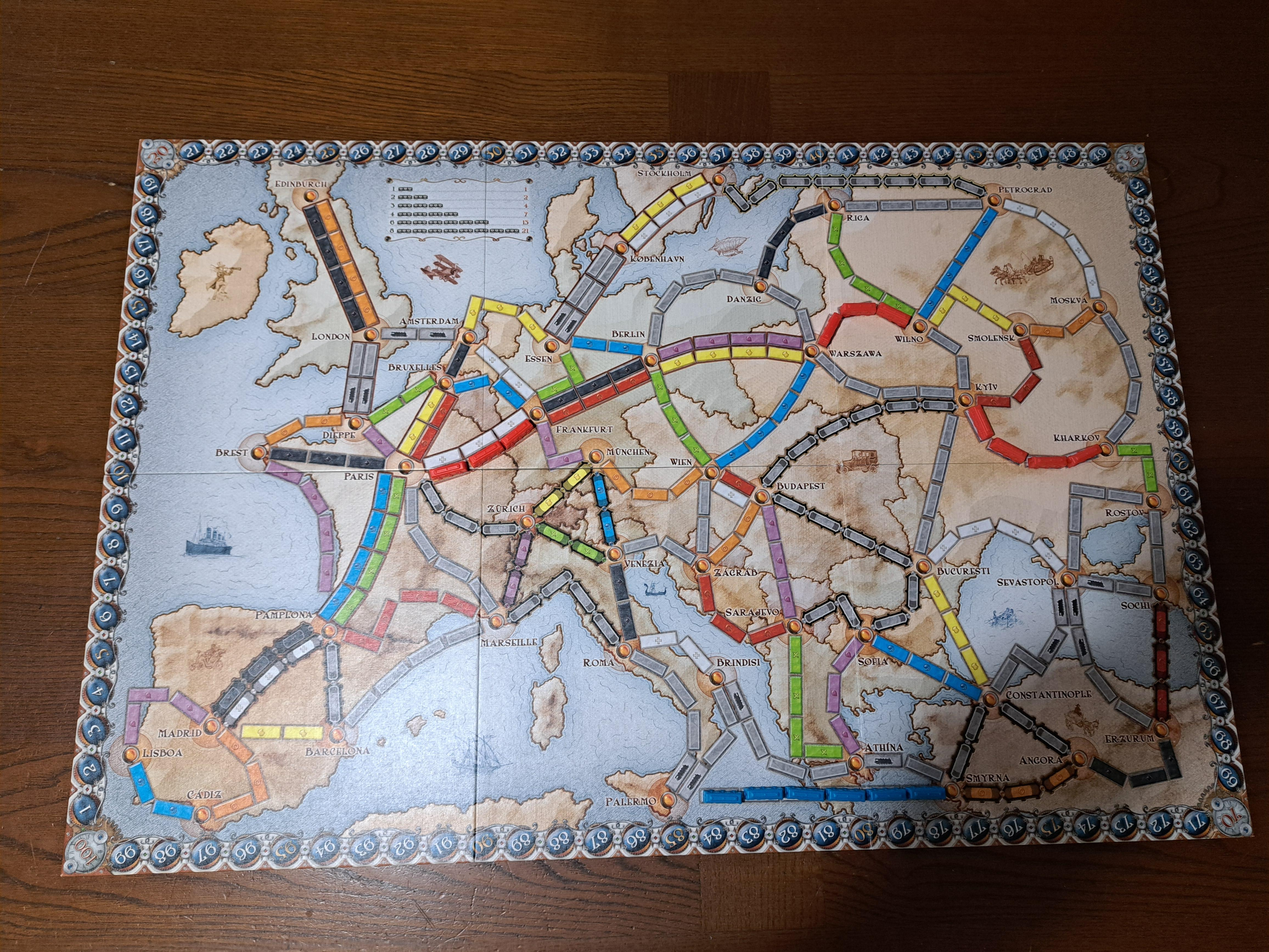corner_bl: (62, 828, 110, 876)
corner_br: (1209, 795, 1253, 838)
corner_tl: (138, 139, 178, 172)
corner_tr: (1112, 143, 1148, 175)
